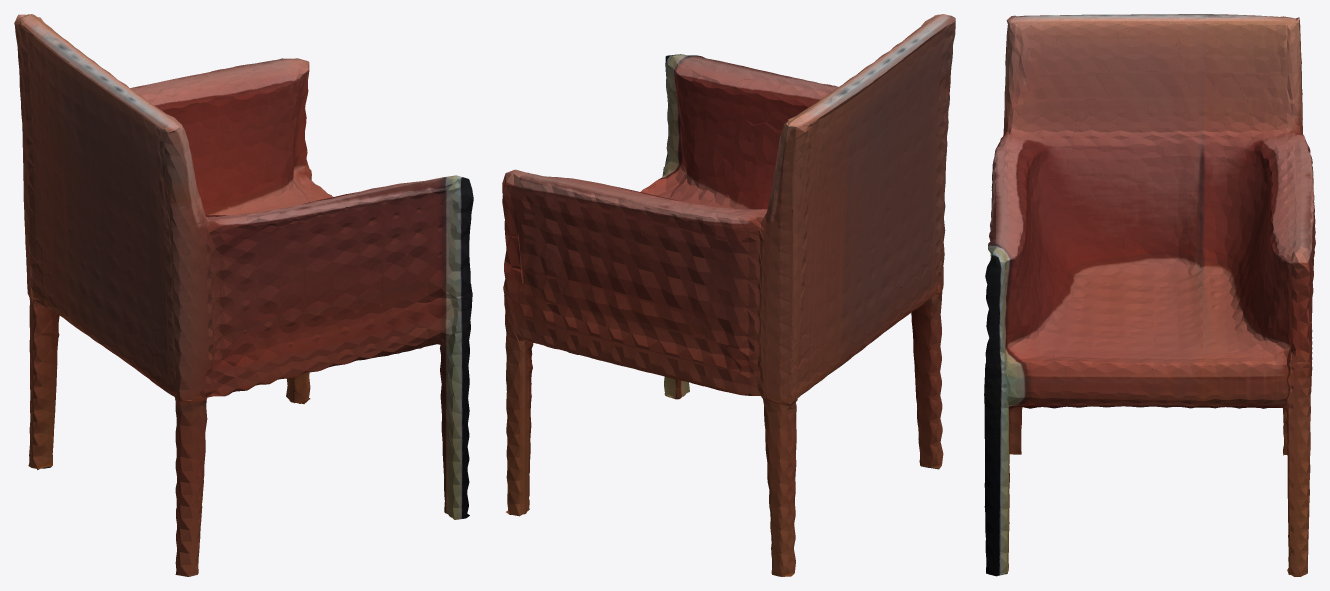
Rendered from elem_94_115_131_213_0_7.obj.
The picture shows the model from 3 angles, left to right: view 1: azimuth 30°, elevation 25°; view 2: azimuth 150°, elevation 25°; view 3: azimuth 270°, elevation 25°; orthographic projection. The views are drawn at different scales.
Size of the model in its own units: 0.4793 by 0.6947 by 0.4857.
1 material, 1 textured.
